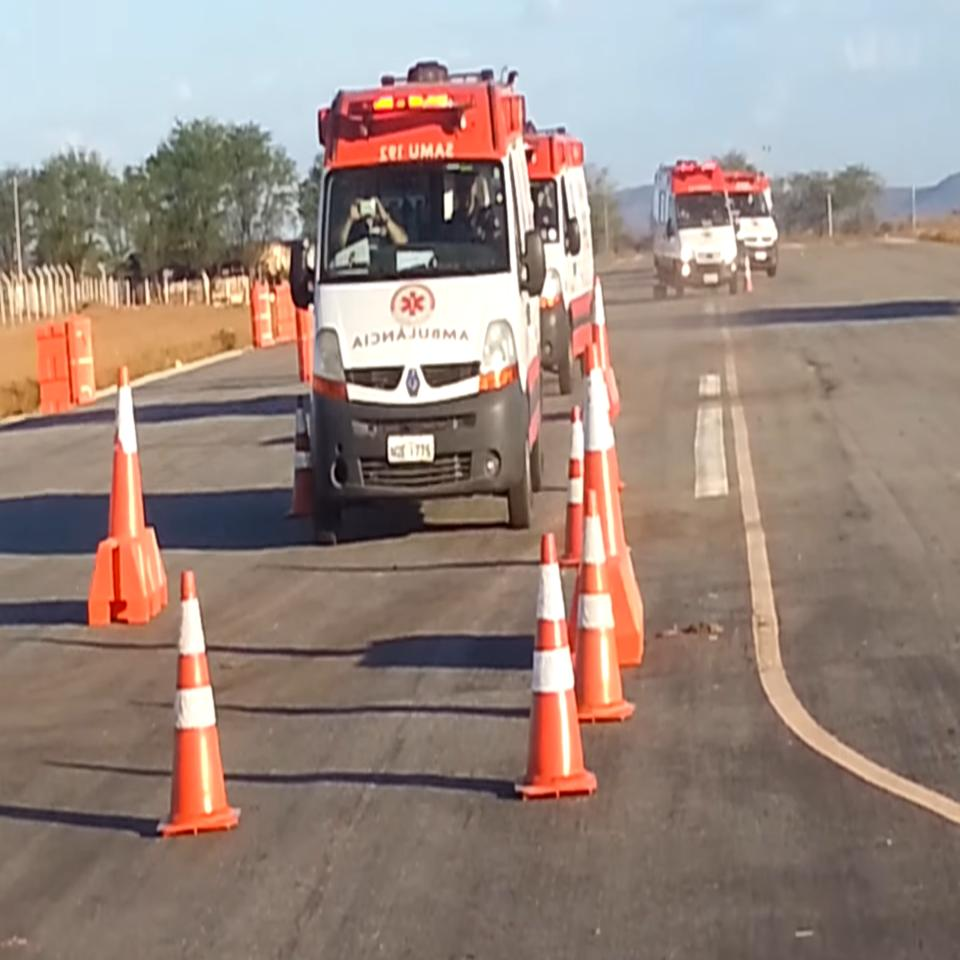bombeiro: (288, 56, 548, 528), (652, 154, 742, 299)
